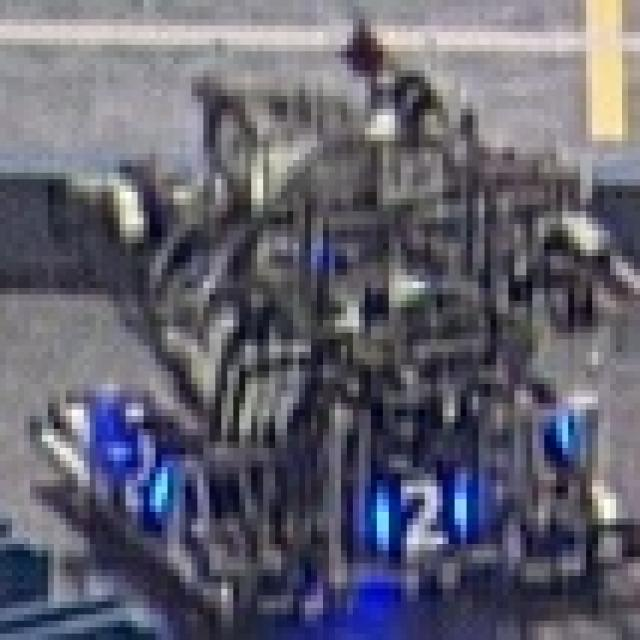B2: (356, 452, 481, 566), (81, 413, 188, 534)
